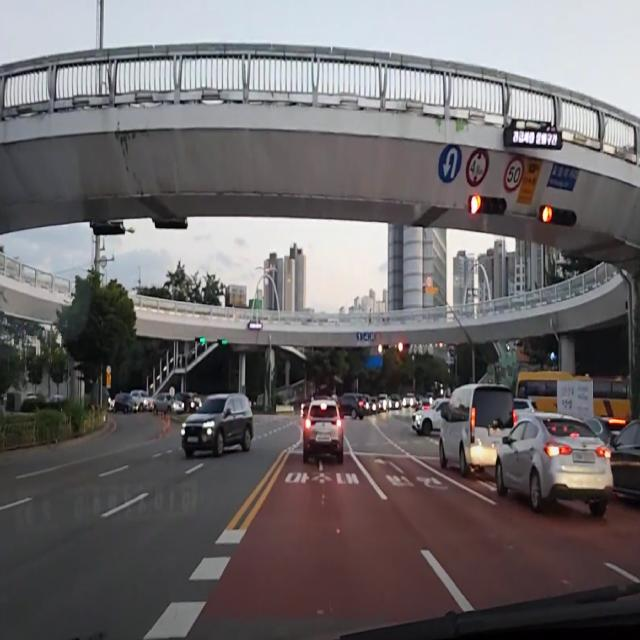Red Light: (468, 194, 481, 215), (542, 204, 552, 223)
